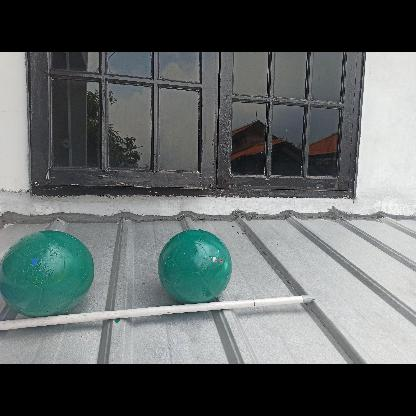green_ball: (3, 231, 91, 319), (158, 228, 233, 302)
